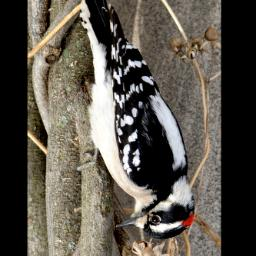Woodpecker: (77, 0, 195, 240)
